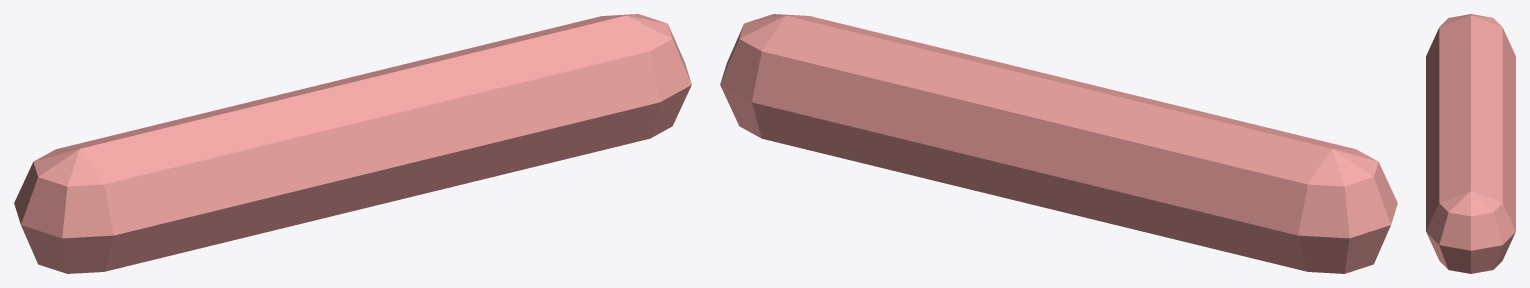
File: sausage_raw.glb
The picture shows the model from 3 angles, left to right: view 1: azimuth 30°, elevation 25°; view 2: azimuth 150°, elevation 25°; view 3: azimuth 270°, elevation 25°; orthographic projection. The views are drawn at different scales.
Parts seen in each view (by area): view 1: SausageRaw; view 2: SausageRaw; view 3: SausageRaw.
Boxes of the visible parts, x1=… form: SausageRaw: x1=14, y1=14, x2=691, y2=273; SausageRaw: x1=720, y1=14, x2=1397, y2=273; SausageRaw: x1=1426, y1=14, x2=1515, y2=273.
Size of the model in its own units: 4.5 by 0.8 by 0.8.
